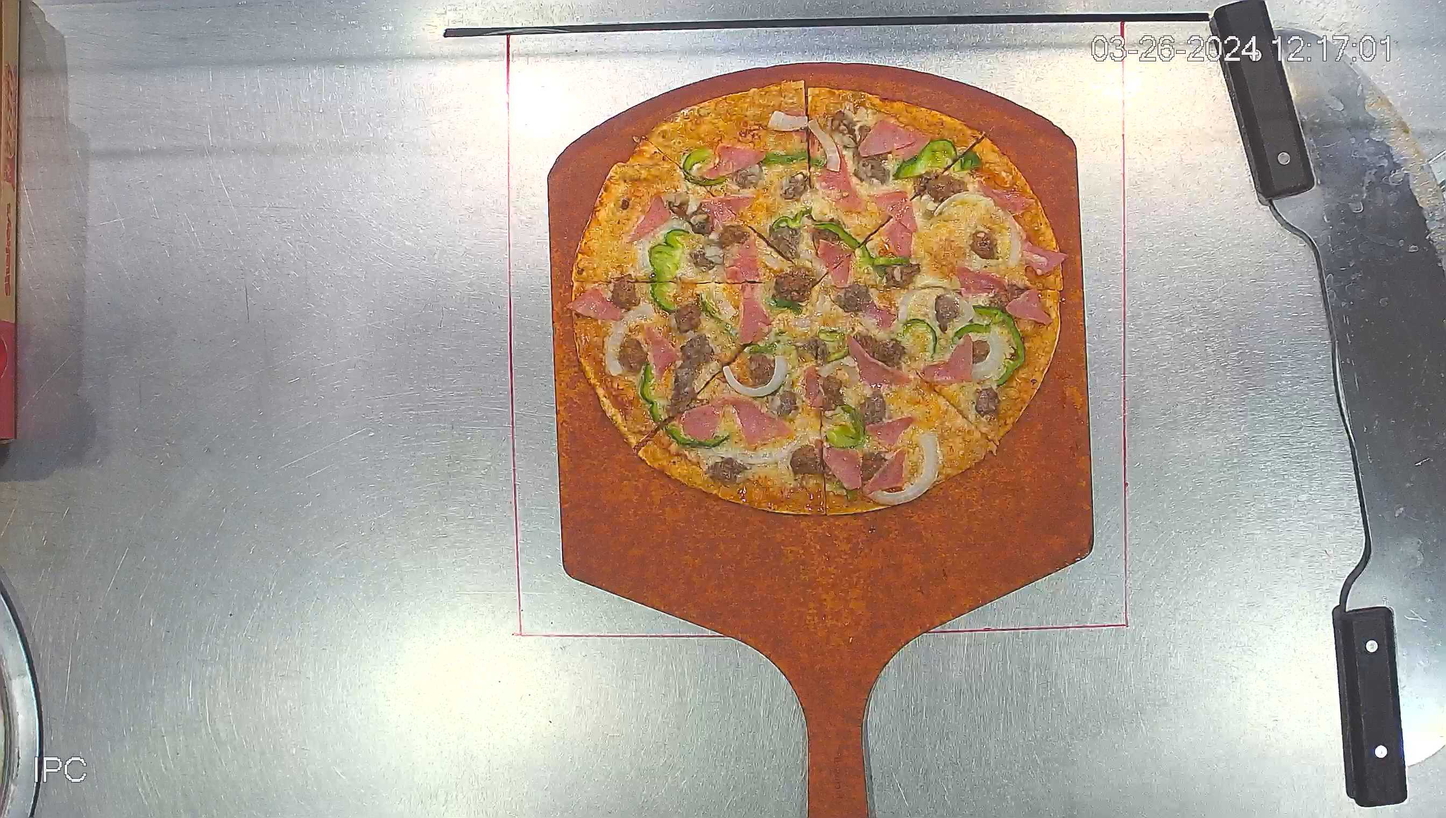hawaiian: (569, 75, 1069, 519)
